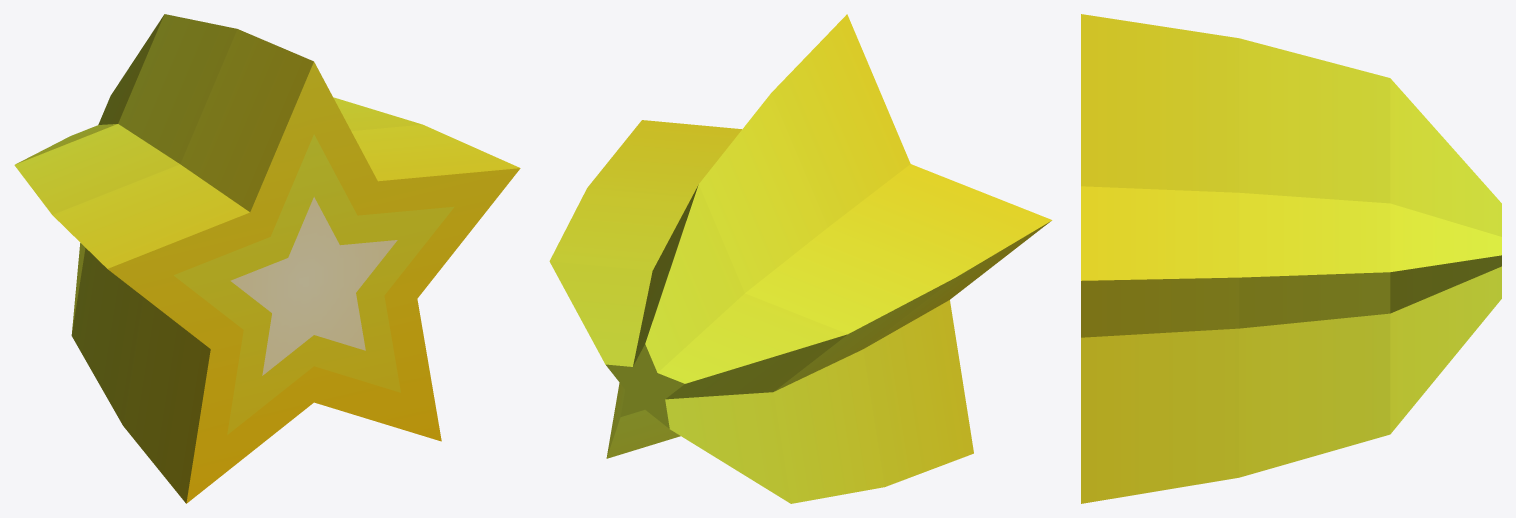
The model's file is Starfruit Half.fbx.
3 views of the same model, side by side, from view 1: azimuth 30°, elevation 25°; view 2: azimuth 150°, elevation 25°; view 3: azimuth 270°, elevation 25° (orthographic). The views are drawn at different scales.
Parts seen in each view (by area): view 1: Starfruit Half; view 2: Starfruit Half; view 3: Starfruit Half.
Boxes of the visible parts, <box> form: Starfruit Half: <box>14,14,520,503</box>; Starfruit Half: <box>549,14,1052,503</box>; Starfruit Half: <box>1081,14,1501,503</box>.
Size of the model in its own units: 16.4 by 15.6 by 13.98.
